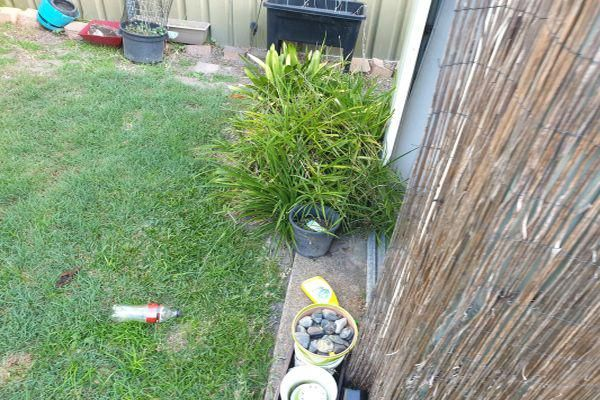Plastic Bottle: (109, 301, 182, 324)
